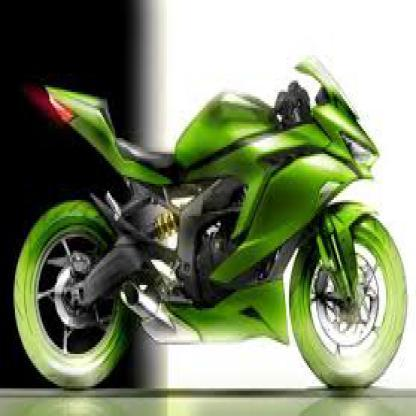Motorcycle: (10, 57, 407, 403)
